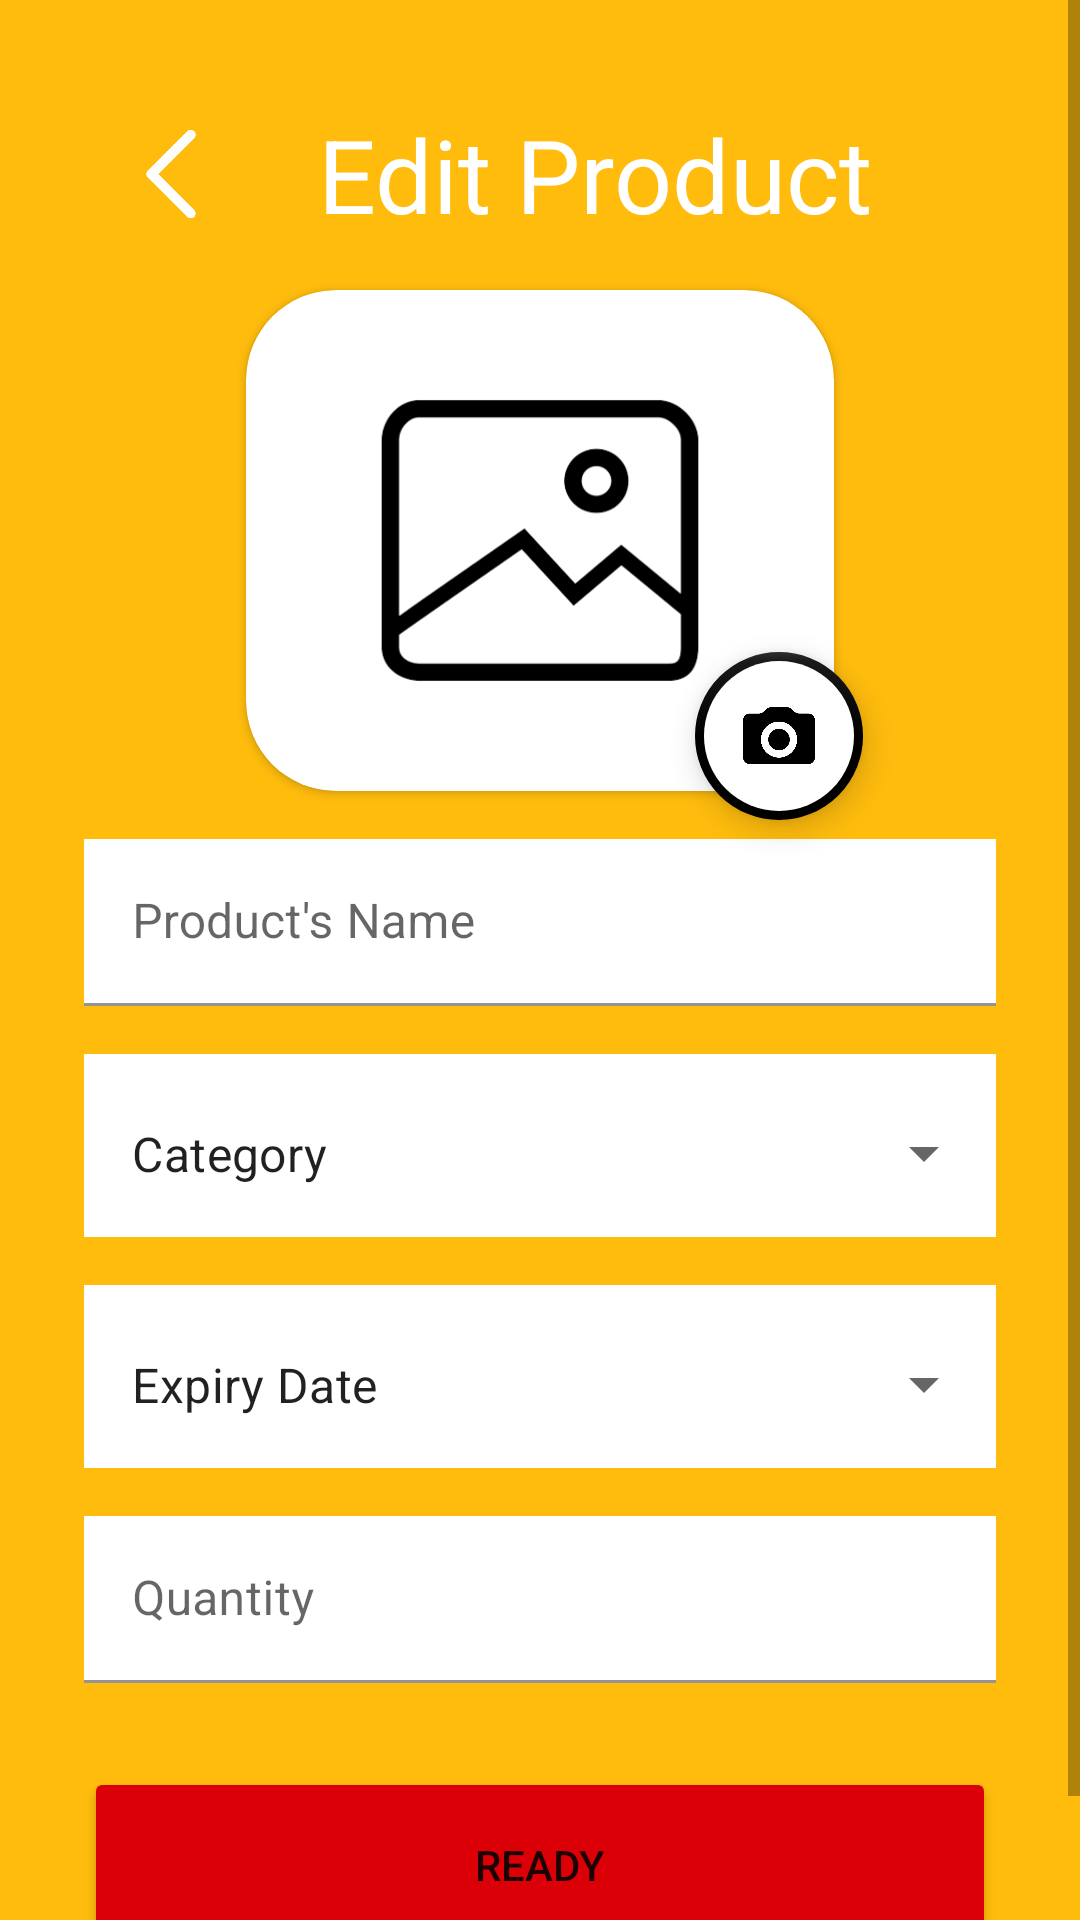

Point at icon controls on the screen. Image size 1080w x 1920h, points as [x,y].
back: [171,174]
oojs ui camera: [779,736]
